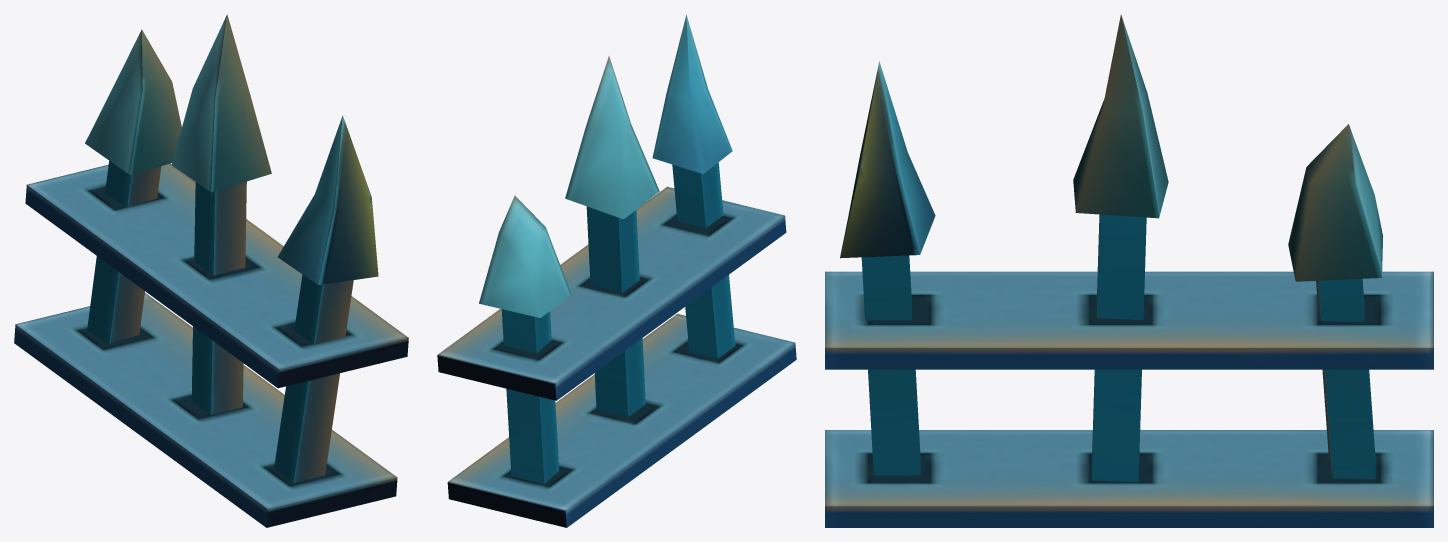
Rendered from LanGan_B.fbx.
3 renders of one model, left to right at view 1: azimuth 30°, elevation 25°; view 2: azimuth 150°, elevation 25°; view 3: azimuth 270°, elevation 25°, orthographic. The views are drawn at different scales.
Visible parts, largest first — view 1: LanGan_B; view 2: LanGan_B; view 3: LanGan_B.
Boxes of the visible parts, left/top/right/bottom form: LanGan_B: left=14, top=14, right=408, bottom=527; LanGan_B: left=437, top=14, right=796, bottom=527; LanGan_B: left=825, top=14, right=1433, bottom=527.
Size of the model in its own units: 0.118 by 0.32 by 0.3626.
Materials: 1 (1 with a texture image).
